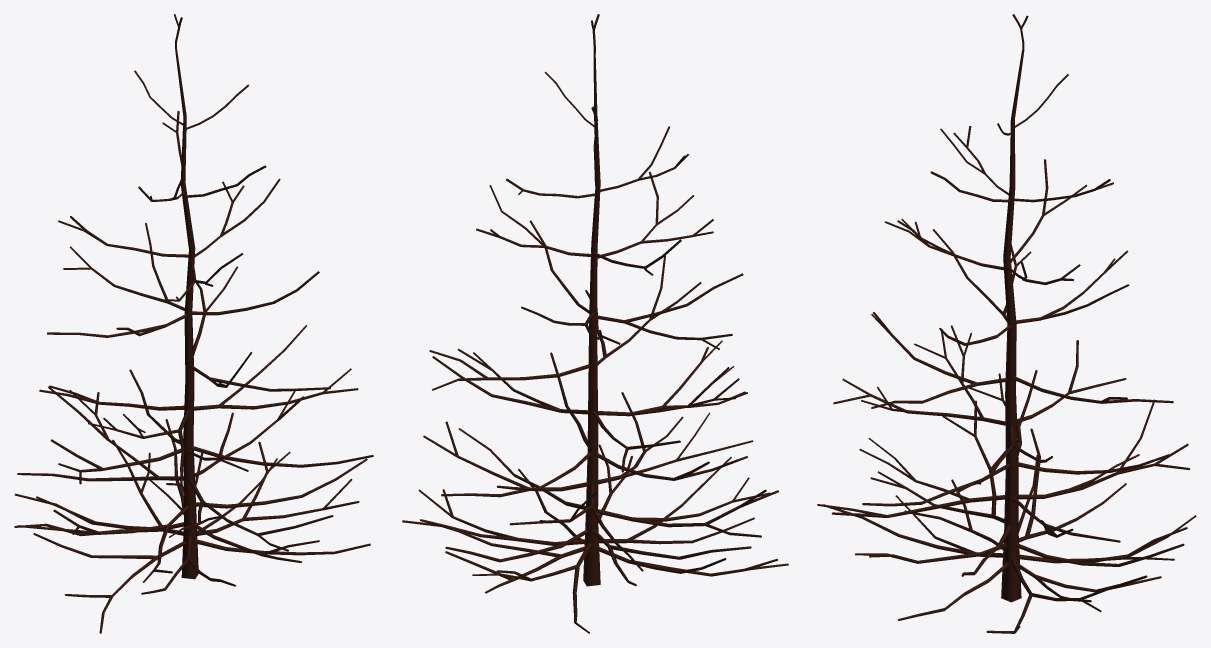
Rendered from FMP_DeadPine.fbx.
The picture shows the model from 3 angles, left to right: view 1: azimuth 30°, elevation 25°; view 2: azimuth 150°, elevation 25°; view 3: azimuth 270°, elevation 25°; orthographic projection. The views are drawn at different scales.
Visible parts, largest first — view 1: tree; view 2: tree; view 3: tree.
Boxes of the visible parts, x1,y1,x2,y2 form: tree: [14, 14, 373, 633]; tree: [402, 14, 788, 633]; tree: [817, 14, 1196, 633].
Bounding box in the file's own units: 10.64 × 10.08 × 16.99.
